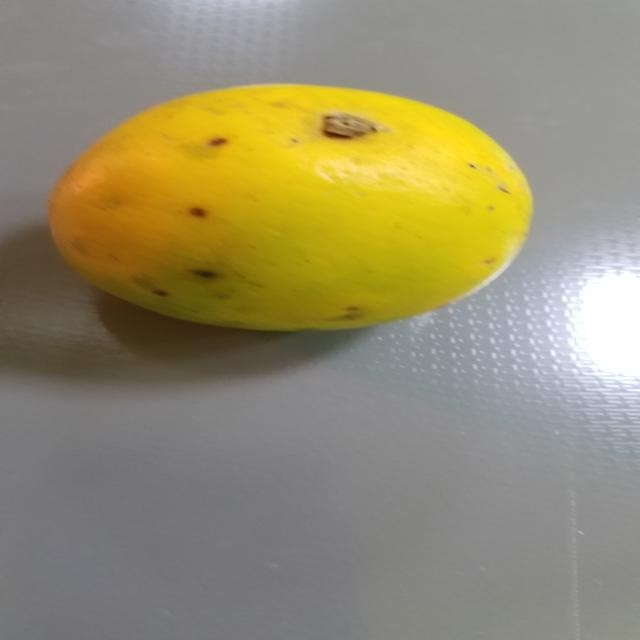agrume: (49, 76, 535, 341)
